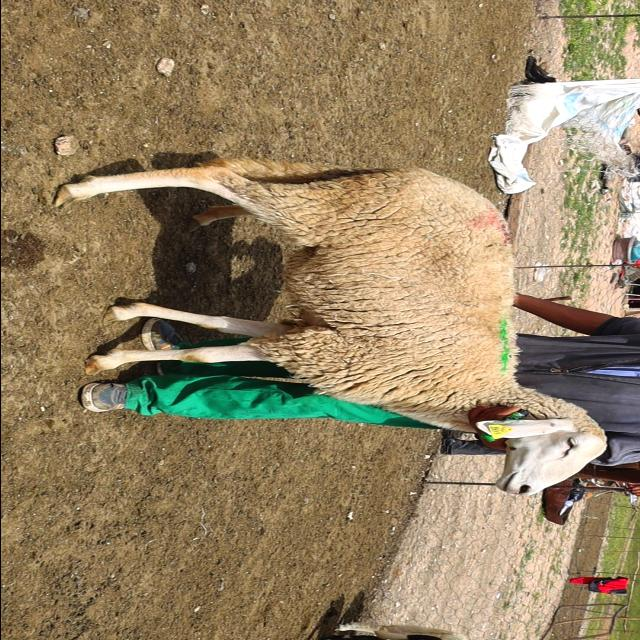Score_1: (53, 158, 606, 495)
